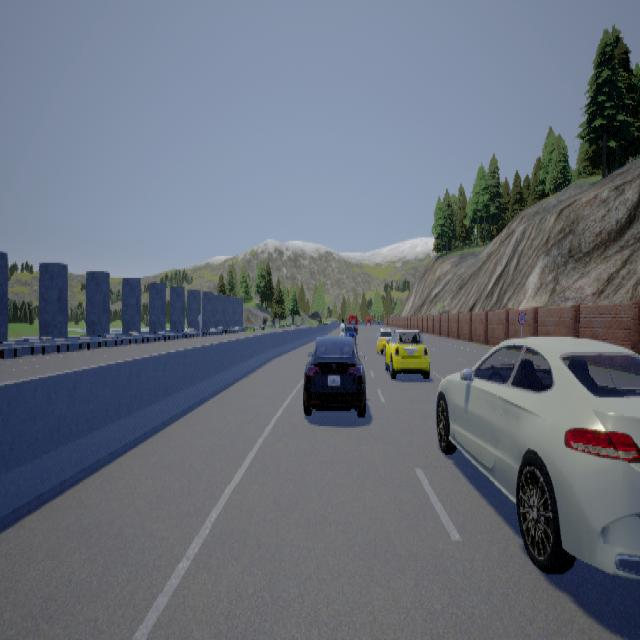traffic_sign: (517, 310, 525, 323)
vehicle: (434, 336, 639, 580), (302, 313, 365, 416), (375, 328, 429, 378)
